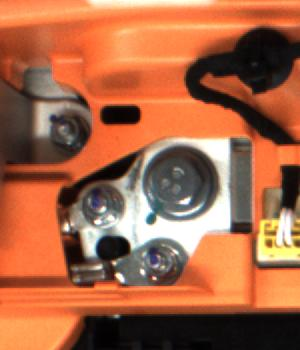nut_b: (140, 141, 219, 216)
screw_s: (82, 182, 120, 226), (47, 111, 82, 156), (144, 246, 180, 282)
